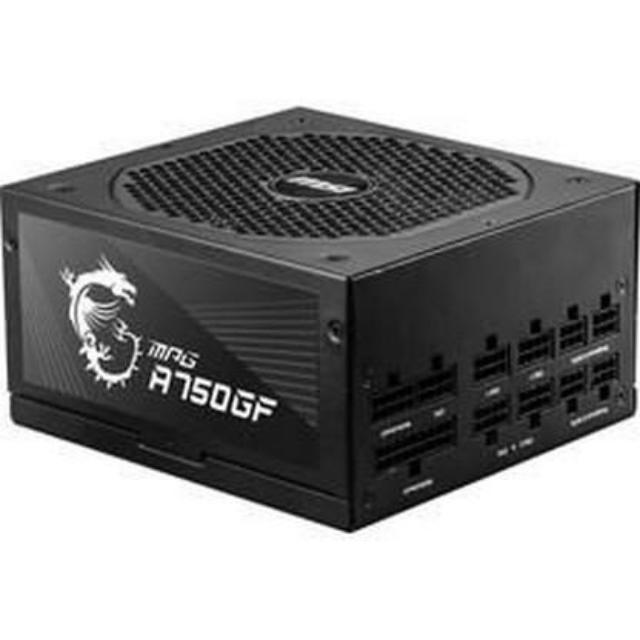PSU: (0, 98, 640, 542)
